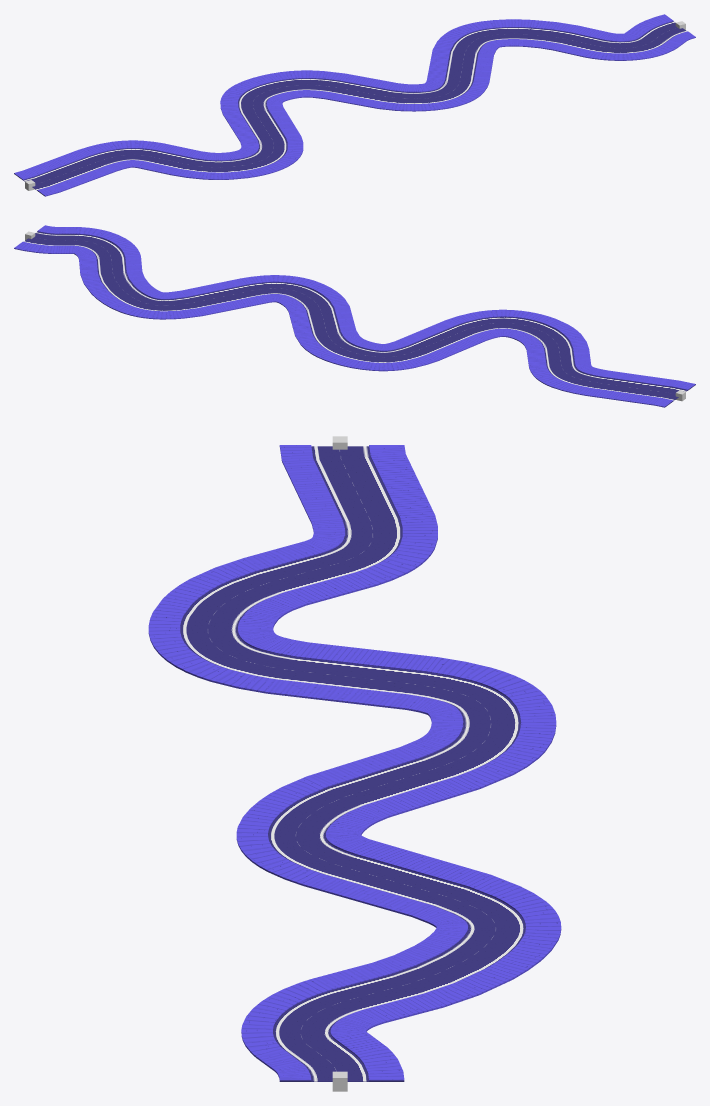
File: Turns 1.dae
3 renders of one model, top to bottom at view 1: azimuth 30°, elevation 25°; view 2: azimuth 150°, elevation 25°; view 3: azimuth 270°, elevation 25°, orthographic. The views are drawn at different scales.
Visible parts, largest first — view 1: PathPath.004; view 2: PathPath.004; view 3: PathPath.004.
Part boxes in pixels (left/top/right/bottom): PathPath.004: left=14, top=14, right=695, bottom=196; PathPath.004: left=14, top=225, right=695, bottom=407; PathPath.004: left=148, top=445, right=561, bottom=1081.
Size of the model in its own units: 200 by 54.45 by 2.
